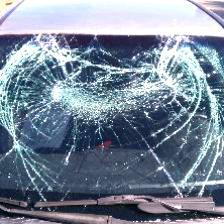glass_shatter: (7, 39, 215, 205)
